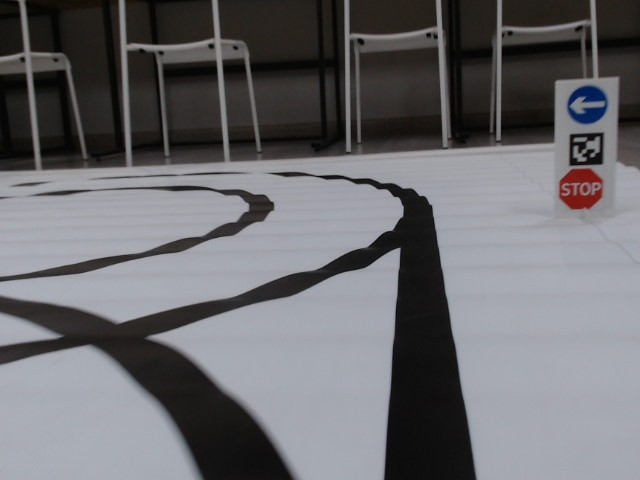Stop: (561, 170, 605, 208)
